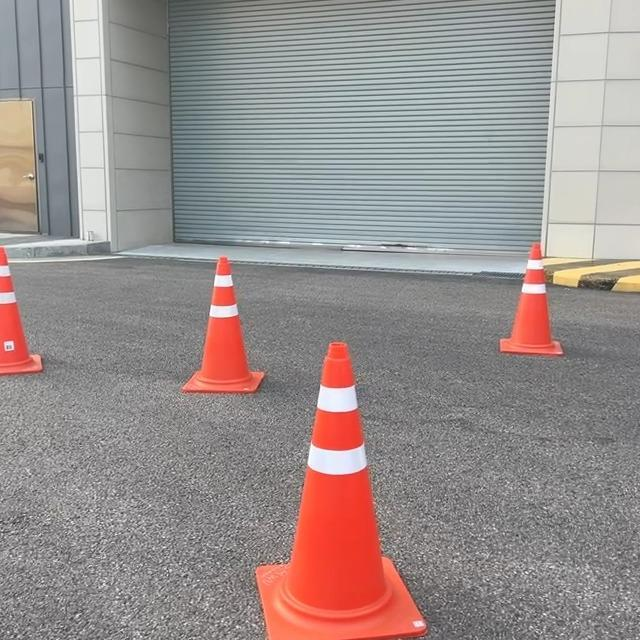fallen_object: (217, 330, 430, 640), (133, 230, 283, 441), (477, 237, 592, 380), (0, 212, 74, 393)
